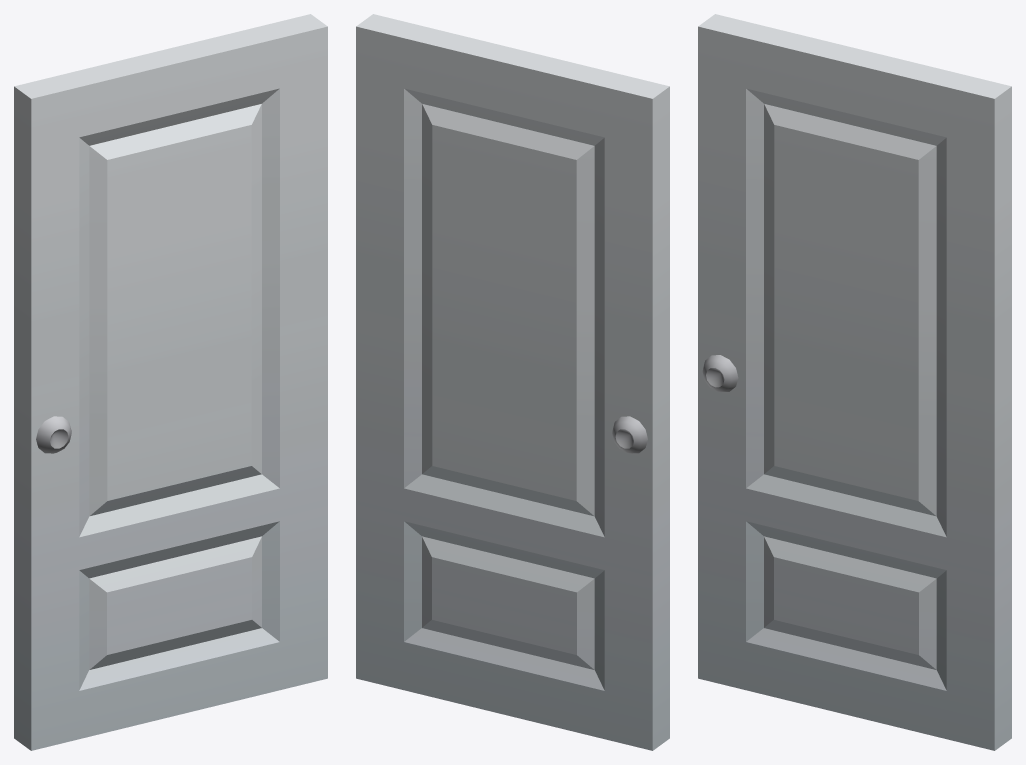
File: Door_White_02.glb
The picture shows the model from 3 angles, left to right: view 1: azimuth 30°, elevation 25°; view 2: azimuth 150°, elevation 25°; view 3: azimuth 330°, elevation 25°; orthographic projection.
Parts seen in each view (by area): view 1: Door_White_02; view 2: Door_White_02; view 3: Door_White_02.
Part boxes in pixels (left/top/right/bottom): Door_White_02: left=14, top=14, right=327, bottom=750; Door_White_02: left=356, top=14, right=669, bottom=750; Door_White_02: left=698, top=14, right=1011, bottom=750.
Size of the model in its own units: 1 by 2.1 by 0.1634.
1 material, 1 textured.
